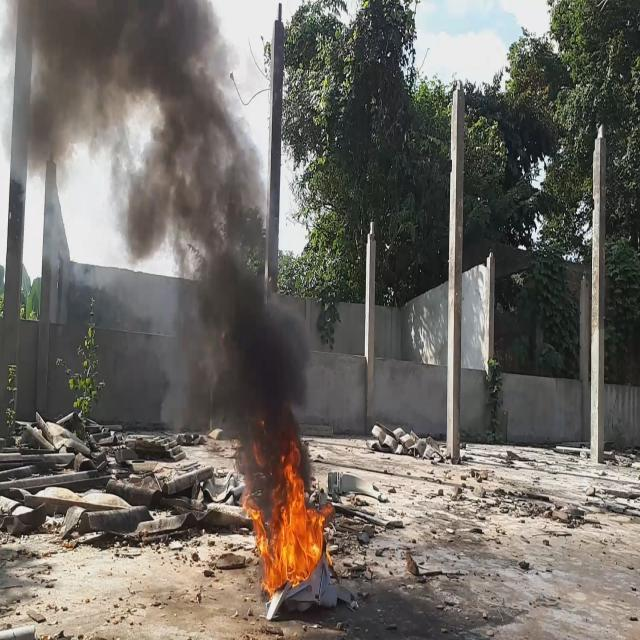Fire: (248, 426, 332, 594)
Smoke: (0, 0, 315, 530)
